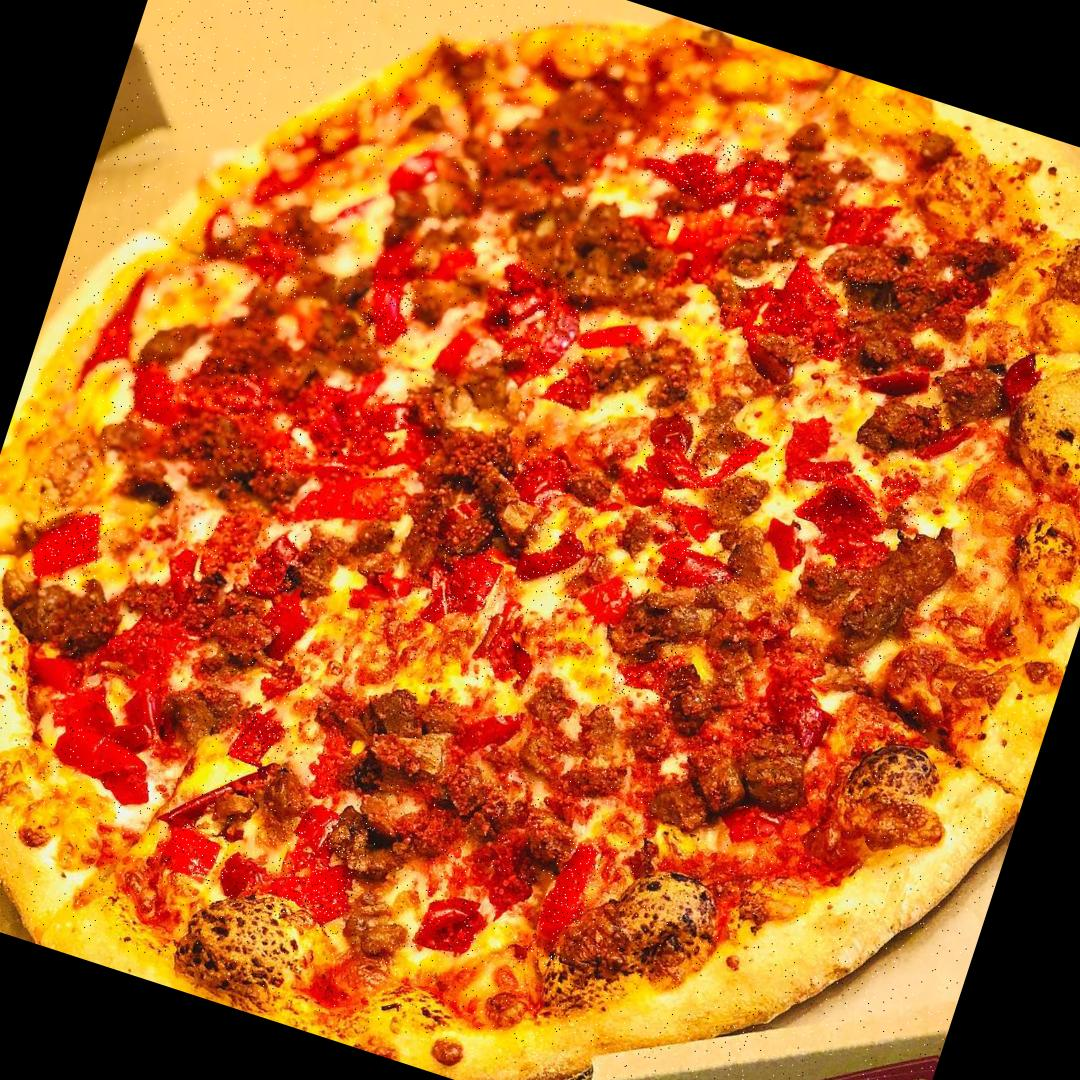Peppers: (32, 672, 180, 818), (776, 457, 907, 592), (278, 368, 416, 492), (262, 801, 377, 941), (635, 403, 769, 516), (646, 122, 794, 224), (480, 258, 596, 385), (72, 253, 165, 408), (754, 248, 873, 366), (278, 458, 406, 552), (657, 192, 761, 296), (198, 207, 314, 300), (97, 600, 199, 703), (749, 655, 847, 762), (528, 835, 607, 966), (770, 396, 870, 495), (22, 495, 114, 593), (422, 542, 510, 640), (420, 307, 508, 397), (643, 531, 746, 607), (143, 810, 234, 894), (224, 404, 316, 486), (639, 477, 732, 557), (512, 514, 595, 602), (352, 266, 428, 362), (190, 354, 284, 431), (118, 349, 199, 436), (739, 506, 823, 584), (246, 584, 322, 668), (609, 636, 692, 712), (409, 890, 493, 964), (446, 698, 530, 770), (506, 435, 581, 515), (478, 622, 550, 705), (244, 526, 309, 614), (566, 566, 642, 641), (987, 338, 1056, 420), (716, 272, 788, 348), (13, 645, 93, 712), (344, 562, 422, 626), (576, 308, 656, 368), (224, 708, 292, 778), (539, 348, 606, 418), (610, 454, 684, 517), (390, 145, 457, 211), (912, 412, 975, 475), (156, 534, 216, 600), (208, 850, 273, 908), (422, 232, 480, 295), (874, 465, 929, 528), (372, 228, 432, 282)
Pizza: (0, 0, 1080, 1080)
